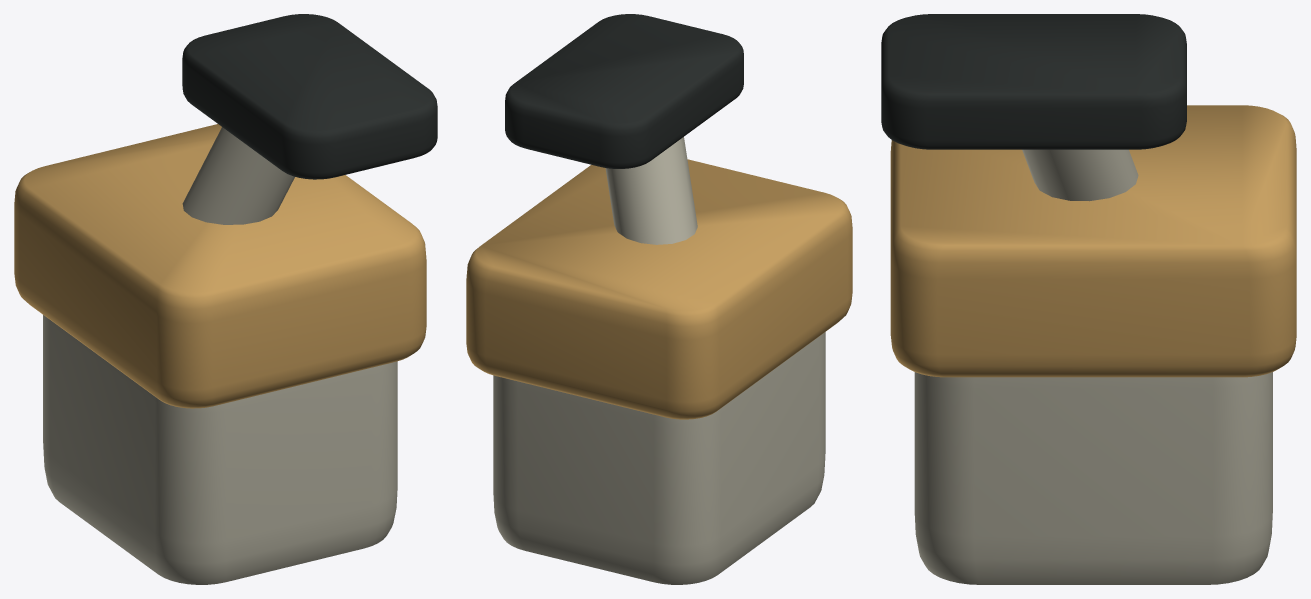
Rendered from Courier.glb.
The picture shows the model from 3 angles, left to right: view 1: azimuth 30°, elevation 25°; view 2: azimuth 150°, elevation 25°; view 3: azimuth 270°, elevation 25°; orthographic projection. The views are drawn at different scales.
Parts seen in each view (by area): view 1: Stop thumb, Stop clamp, Cam paddle, Cam lock; view 2: Stop thumb, Stop clamp, Cam paddle, Cam lock; view 3: Stop thumb, Stop clamp, Cam paddle, Cam lock.
Part boxes in pixels (x1,y1,x2,y2): Stop thumb: (14, 124, 426, 408); Stop clamp: (43, 315, 397, 584); Cam paddle: (182, 14, 437, 179); Cam lock: (182, 127, 294, 224); Stop thumb: (466, 159, 852, 419); Stop clamp: (493, 332, 825, 584); Cam paddle: (505, 14, 743, 168); Cam lock: (605, 137, 697, 244); Stop thumb: (890, 105, 1296, 377); Stop clamp: (914, 372, 1272, 584); Cam paddle: (881, 14, 1186, 149); Cam lock: (1022, 149, 1138, 201).
Bounding box in the file's own units: 0.1494 × 0.233 × 0.174.
